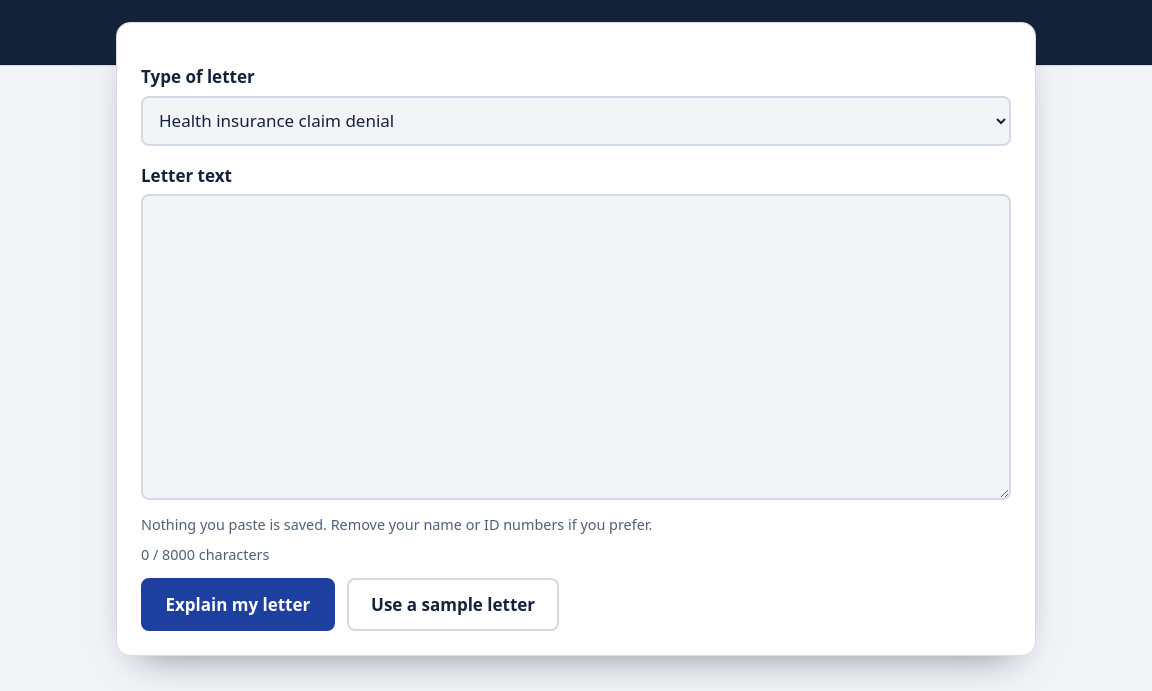
Test: App › handles text that is not a denial letter
(page scrolled)
Type "hello world" into the text box labelled "Letter text".
click(576, 347); type("hello world")  # box [141, 194, 1011, 500]
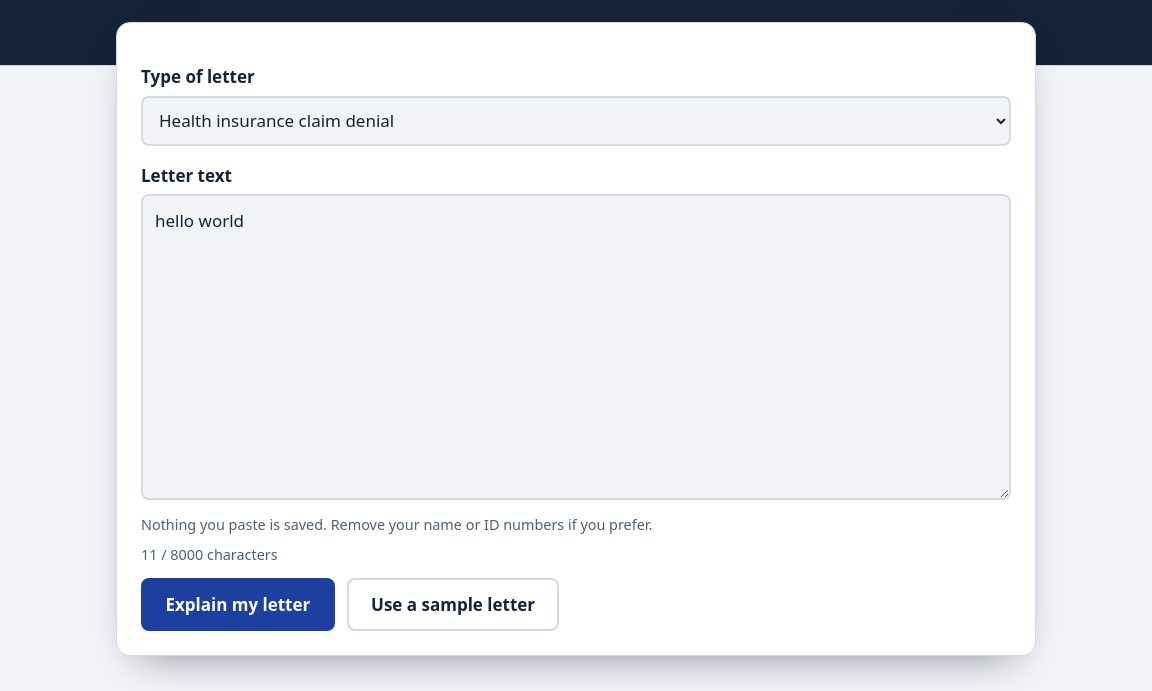
Click the button "Explain my letter".
click(238, 605)  # box [141, 578, 335, 631]
(page scrolled)
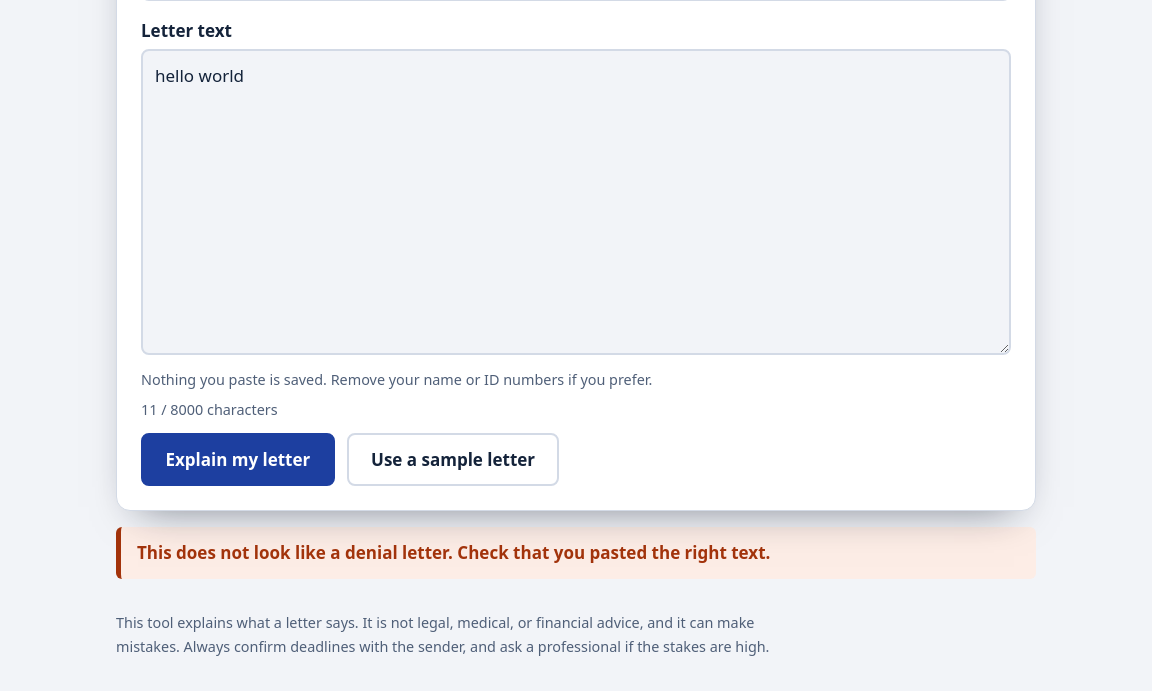
Check: the message shows "does not look like a denial letter", box [137, 541, 770, 564]
